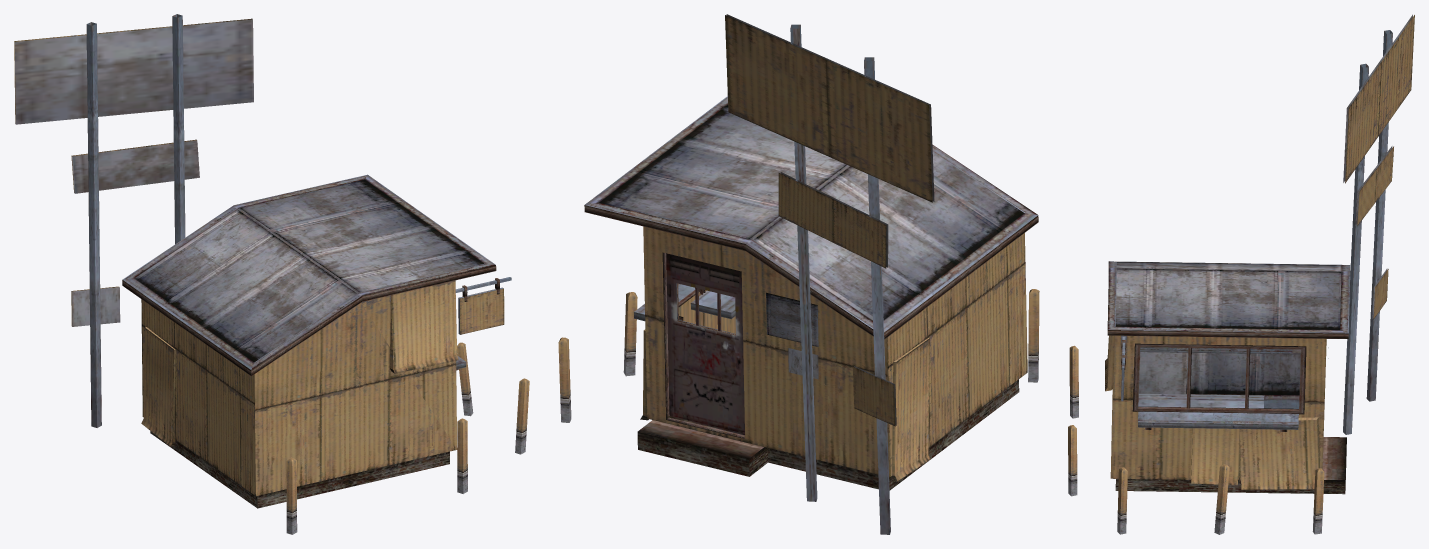
File: SmallHouseA.FBX
3 renders of one model, left to right at view 1: azimuth 30°, elevation 25°; view 2: azimuth 150°, elevation 25°; view 3: azimuth 270°, elevation 25°, orthographic. The views are drawn at different scales.
Parts seen in each view (by area): view 1: SmallHouseA; view 2: SmallHouseA; view 3: SmallHouseA.
Boxes of the visible parts, bbox=[...] form: SmallHouseA: bbox=[14, 14, 529, 534]; SmallHouseA: bbox=[558, 14, 1039, 534]; SmallHouseA: bbox=[1068, 14, 1414, 534].
Size of the model in its own units: 429 by 449 by 382.
